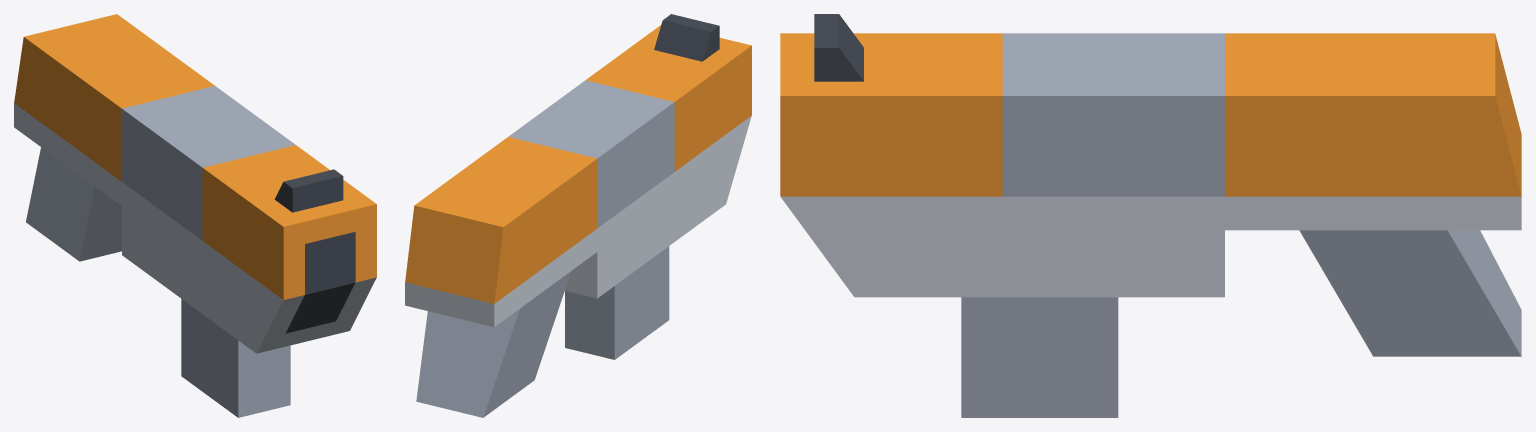
The model's file is weapon_rifle.glb.
3 renders of one model, left to right at view 1: azimuth 30°, elevation 25°; view 2: azimuth 150°, elevation 25°; view 3: azimuth 270°, elevation 25°, orthographic. The views are drawn at different scales.
Parts seen in each view (by area): view 1: weapon_rifle; view 2: weapon_rifle; view 3: weapon_rifle.
Boxes of the visible parts, <box> form: weapon_rifle: <box>14,14,376,417</box>; weapon_rifle: <box>405,14,751,417</box>; weapon_rifle: <box>780,14,1521,417</box>.
Bounding box in the file's own units: 0.1 × 0.275 × 0.5.
